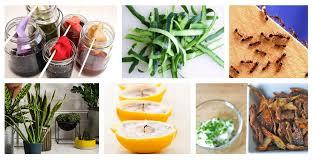Organic: (125, 6, 229, 77), (120, 85, 178, 151), (254, 86, 311, 149), (202, 111, 230, 139)
